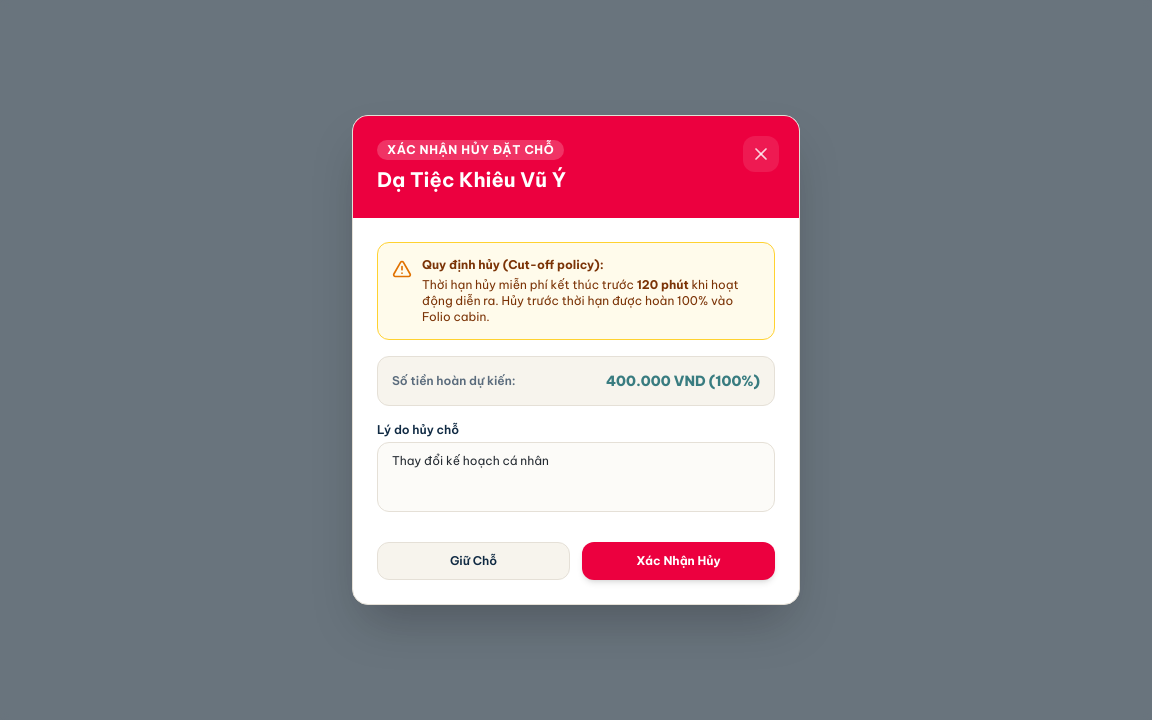
Test: CancelActivityModal Component Tests (KAN-372) › hủy đặt chỗ thành công và thông báo số tiền hoàn Folio
Click the button "Xác Nhận Hủy": click(678, 561) top-left (582, 542), bottom-right (775, 580)
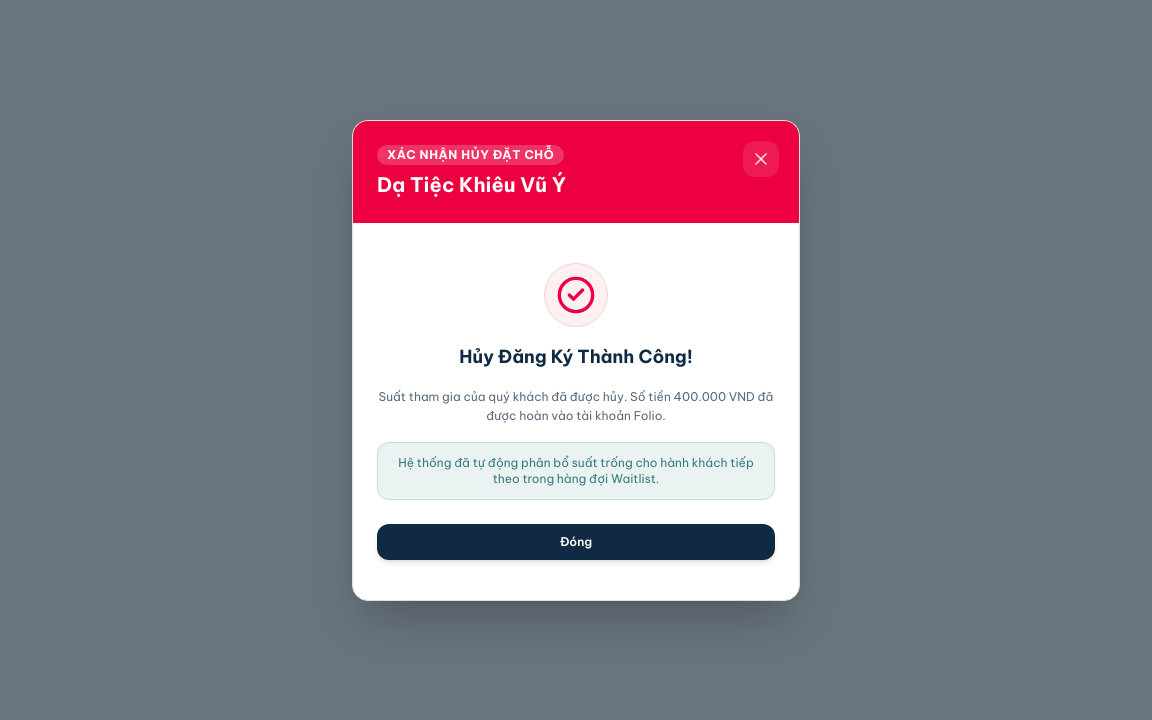
expect the heading "Hủy Đăng Ký Thành Công!" is shown: met, box top-left (459, 344), bottom-right (693, 368)
expect the text "400.000 VND đã được hoàn vào tài khoản Folio" is shown: met, box top-left (486, 388), bottom-right (773, 423)
expect the text "tự động phân bổ suất trống cho hành khách tiếp theo" is shown: met, box top-left (398, 454), bottom-right (754, 486)
